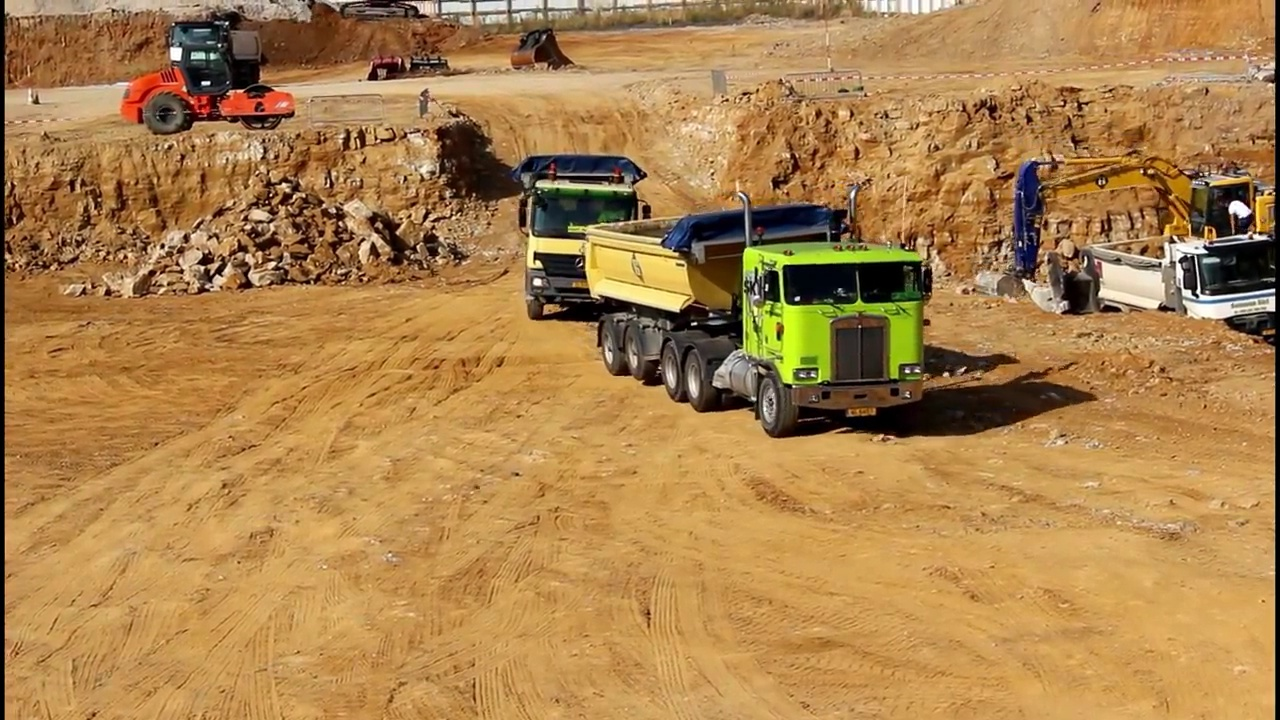compactor: (119, 41, 295, 134)
excavator: (972, 145, 1280, 309)
truck: (579, 179, 940, 443), (509, 144, 654, 330), (1074, 234, 1280, 353), (167, 14, 272, 100)
worker: (1222, 190, 1258, 244)
